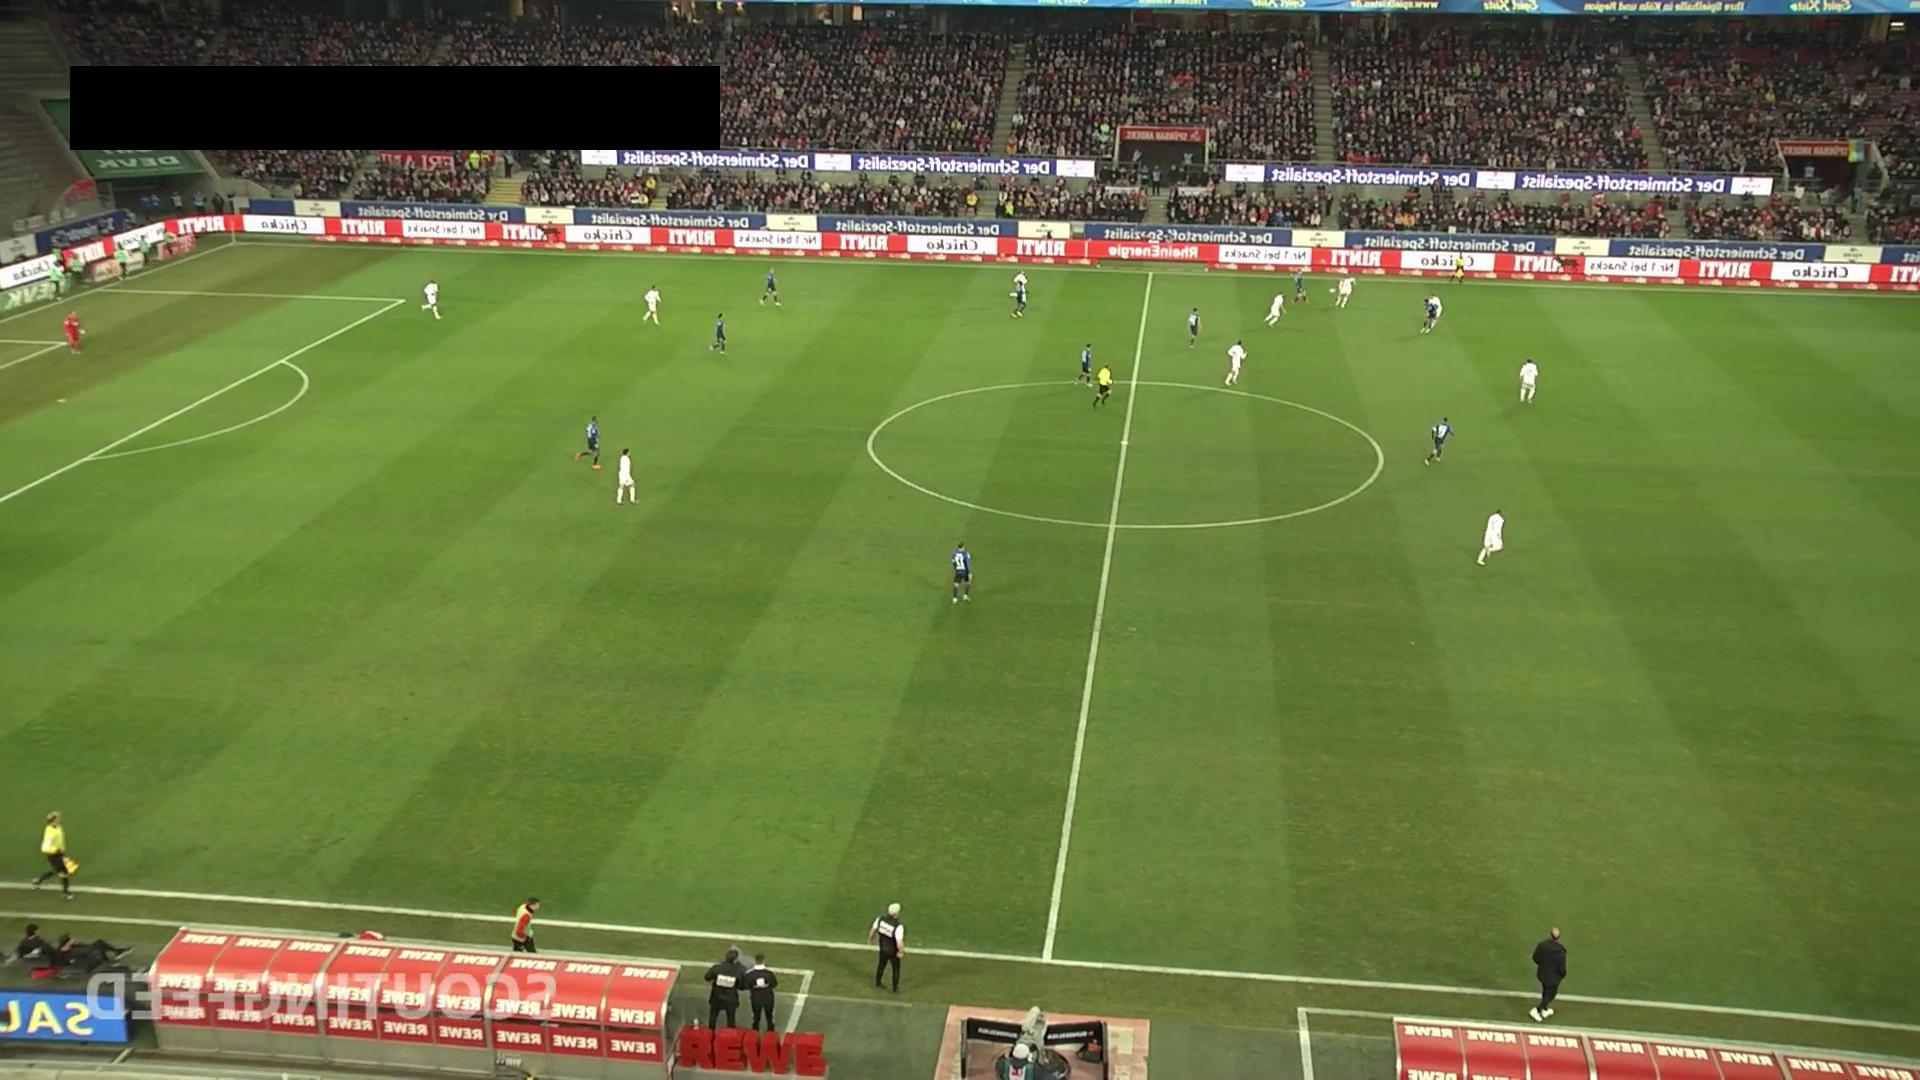ball: (1329, 287, 1336, 294)
goalkeeper: (62, 310, 85, 354)
player: (1476, 508, 1505, 565), (573, 414, 601, 468), (950, 540, 973, 604), (1425, 416, 1455, 464), (615, 447, 638, 504), (1518, 356, 1539, 404), (1225, 339, 1246, 385), (760, 266, 782, 307), (642, 283, 662, 326), (421, 279, 442, 319), (1264, 292, 1287, 326), (1077, 341, 1094, 385), (1009, 270, 1029, 307), (710, 312, 727, 353), (1009, 280, 1027, 318), (1427, 293, 1444, 333), (1336, 274, 1355, 308), (1421, 298, 1439, 333), (1187, 306, 1201, 349), (1292, 271, 1307, 303)
referee: (31, 811, 79, 900), (1092, 362, 1114, 408), (1448, 255, 1467, 285)
